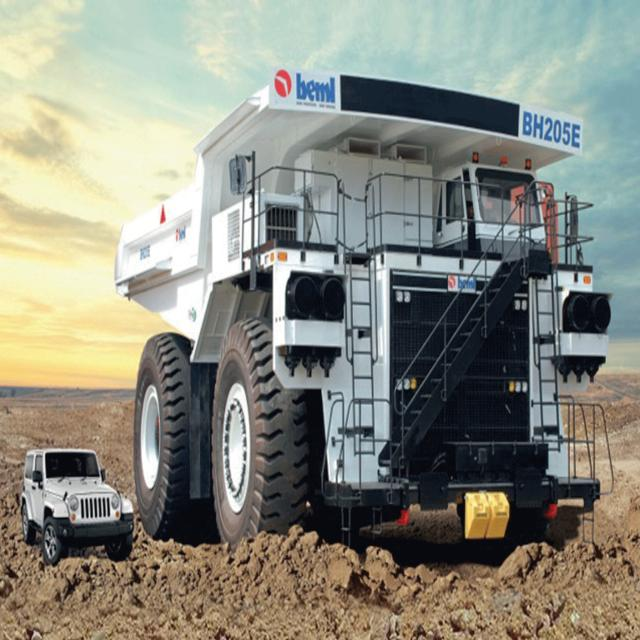dump_truck: (129, 59, 607, 552)
light_vehicle: (15, 431, 132, 586)
